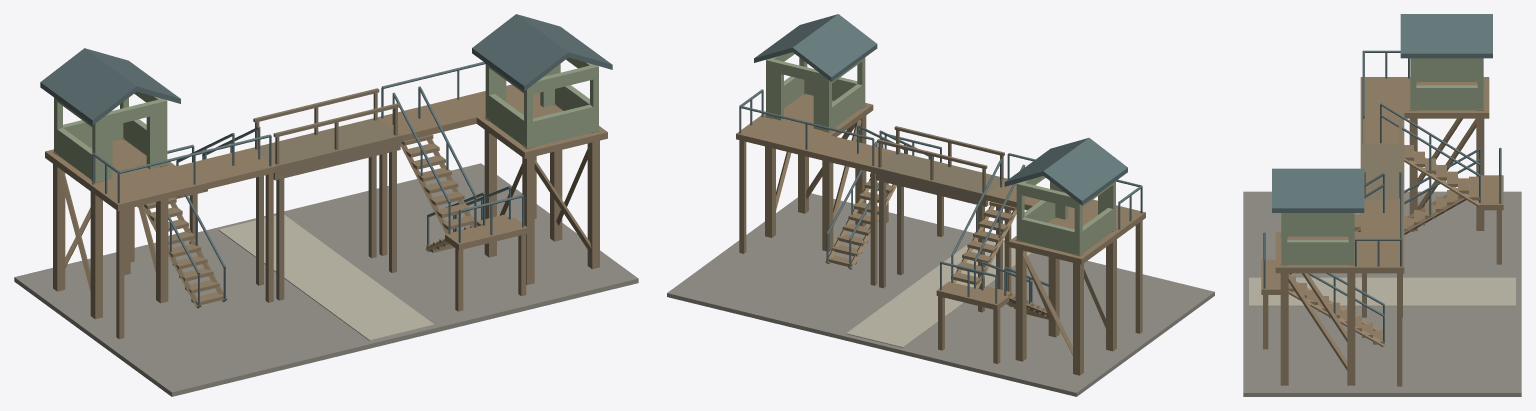
The picture shows the model from 3 angles, left to right: view 1: azimuth 30°, elevation 25°; view 2: azimuth 150°, elevation 25°; view 3: azimuth 270°, elevation 25°; orthographic projection. The views are drawn at different scales.
Visible parts, largest first — view 1: SceneOnlyOverstreetStructure__SceneOnlyWholeGround, SceneOnlyOverstreetStructure__SceneOnlyLowerCrossingLane, east__WholeWindowedCabinWithFrontEntry, west__WholeWindowedCabinWithFrontEntry, west__WholeThickPitchedRoof, east__WholeThickPitchedRoof, west__WholeTopEntryLanding, SceneOnlyOverstreetStructure__SceneOnlyWholeUpperLinkDeck, east__WholeTopEntryLanding, west__WholeCabinPlatform, east__WholeCabinPlatform, east__MainFootPost_-0.91_0.91 (+22 smaller); view 2: SceneOnlyOverstreetStructure__SceneOnlyWholeGround, west__WholeWindowedCabinWithFrontEntry, SceneOnlyOverstreetStructure__SceneOnlyLowerCrossingLane, east__WholeWindowedCabinWithFrontEntry, east__WholeThickPitchedRoof, west__WholeThickPitchedRoof, east__WholeTopEntryLanding, SceneOnlyOverstreetStructure__SceneOnlyWholeUpperLinkDeck, west__WholeTopEntryLanding, west__WholeCabinPlatform, east__WholeCabinPlatform, west__MainFootPost_0.91_0.91 (+17 smaller); view 3: SceneOnlyOverstreetStructure__SceneOnlyWholeGround, SceneOnlyOverstreetStructure__SceneOnlyLowerCrossingLane, west__WholeThickPitchedRoof, east__WholeThickPitchedRoof, west__WholeWindowedCabinWithFrontEntry, east__WholeWindowedCabinWithFrontEntry, east__WholeTopEntryLanding, west__WholeTopEntryLanding, SceneOnlyOverstreetStructure__SceneOnlyWholeUpperLinkDeck, west__WholeCabinPlatform, east__WholeCabinPlatform, east__MainFootPost_-0.91_0.91 (+17 smaller).
Part boxes in pixels (left/top/right/bottom): SceneOnlyOverstreetStructure__SceneOnlyWholeGround: left=14, top=163, right=638, bottom=396; SceneOnlyOverstreetStructure__SceneOnlyLowerCrossingLane: left=218, top=215, right=434, bottom=340; east__WholeWindowedCabinWithFrontEntry: left=485, top=57, right=598, bottom=147; west__WholeWindowedCabinWithFrontEntry: left=54, top=91, right=167, bottom=181; west__WholeThickPitchedRoof: left=40, top=48, right=180, bottom=125; east__WholeThickPitchedRoof: left=472, top=14, right=612, bottom=91; west__WholeTopEntryLanding: left=93, top=148, right=275, bottom=210; SceneOnlyOverstreetStructure__SceneOnlyWholeUpperLinkDeck: left=251, top=117, right=402, bottom=173; east__WholeTopEntryLanding: left=378, top=84, right=540, bottom=141; west__WholeCabinPlatform: left=45, top=139, right=175, bottom=192; east__WholeCabinPlatform: left=476, top=102, right=607, bottom=158; east__MainFootPost_-0.91_0.91: left=587, top=130, right=599, bottom=269; SceneOnlyOverstreetStructure__SceneOnlyWholeGround: left=667, top=193, right=1214, bottom=396; west__WholeWindowedCabinWithFrontEntry: left=1016, top=176, right=1115, bottom=255; SceneOnlyOverstreetStructure__SceneOnlyLowerCrossingLane: left=846, top=240, right=1031, bottom=347; east__WholeWindowedCabinWithFrontEntry: left=766, top=52, right=865, bottom=131; east__WholeThickPitchedRoof: left=754, top=14, right=877, bottom=81; west__WholeThickPitchedRoof: left=1004, top=138, right=1127, bottom=205; east__WholeTopEntryLanding: left=736, top=118, right=895, bottom=172; SceneOnlyOverstreetStructure__SceneOnlyWholeUpperLinkDeck: left=874, top=151, right=1007, bottom=200; west__WholeTopEntryLanding: left=986, top=179, right=1145, bottom=233; west__WholeCabinPlatform: left=1008, top=215, right=1123, bottom=264; east__WholeCabinPlatform: left=758, top=94, right=873, bottom=136; west__MainFootPost_0.91_0.91: left=1015, top=239, right=1026, bottom=361; SceneOnlyOverstreetStructure__SceneOnlyWholeGround: left=1243, top=191, right=1521, bottom=396; SceneOnlyOverstreetStructure__SceneOnlyLowerCrossingLane: left=1249, top=277, right=1515, bottom=306; west__WholeThickPitchedRoof: left=1400, top=14, right=1492, bottom=58; east__WholeThickPitchedRoof: left=1272, top=168, right=1364, bottom=212; west__WholeWindowedCabinWithFrontEntry: left=1410, top=58, right=1483, bottom=110; east__WholeWindowedCabinWithFrontEntry: left=1281, top=213, right=1354, bottom=264; east__WholeTopEntryLanding: left=1360, top=199, right=1404, bottom=273; west__WholeTopEntryLanding: left=1360, top=77, right=1404, bottom=144; SceneOnlyOverstreetStructure__SceneOnlyWholeUpperLinkDeck: left=1360, top=144, right=1404, bottom=199; west__WholeCabinPlatform: left=1404, top=77, right=1489, bottom=118; east__WholeCabinPlatform: left=1275, top=231, right=1360, bottom=273; east__MainFootPost_-0.91_0.91: left=1280, top=261, right=1288, bottom=385.
Size of the model in its own units: 13 by 6.18 by 7.6.
